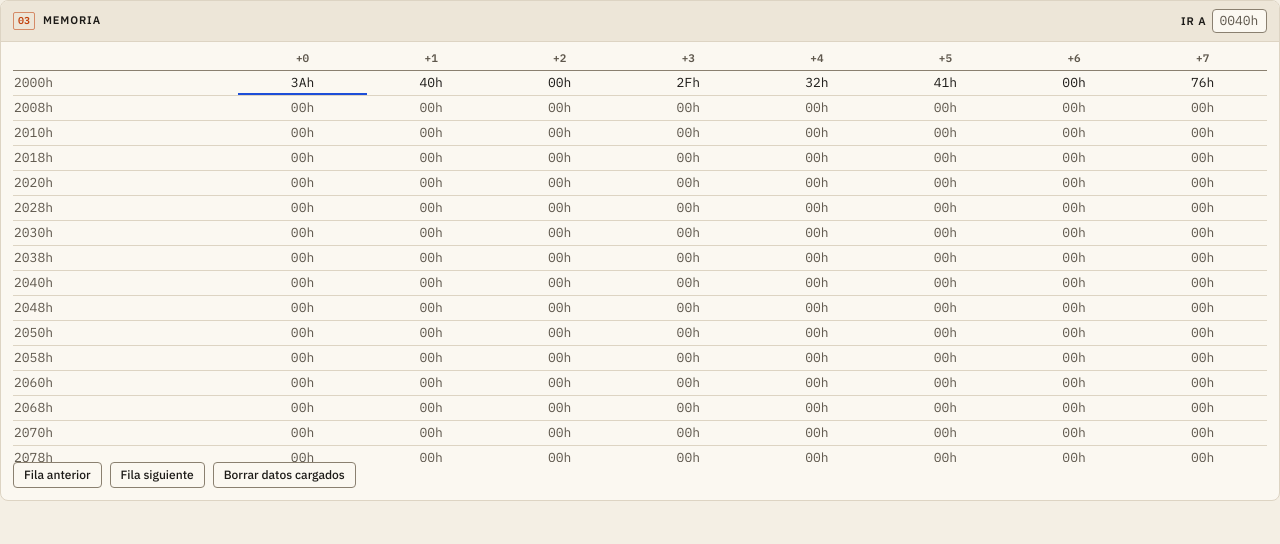
Test: Memory › valor inválido 1FF deja el valor, muestra alerta y mantiene el editor
This screenshot has width=1280, height=544.
Type "0000h" into the field labelled "Ir a" at (1240, 21), box x1=1212 y1=9 x2=1267 y2=33
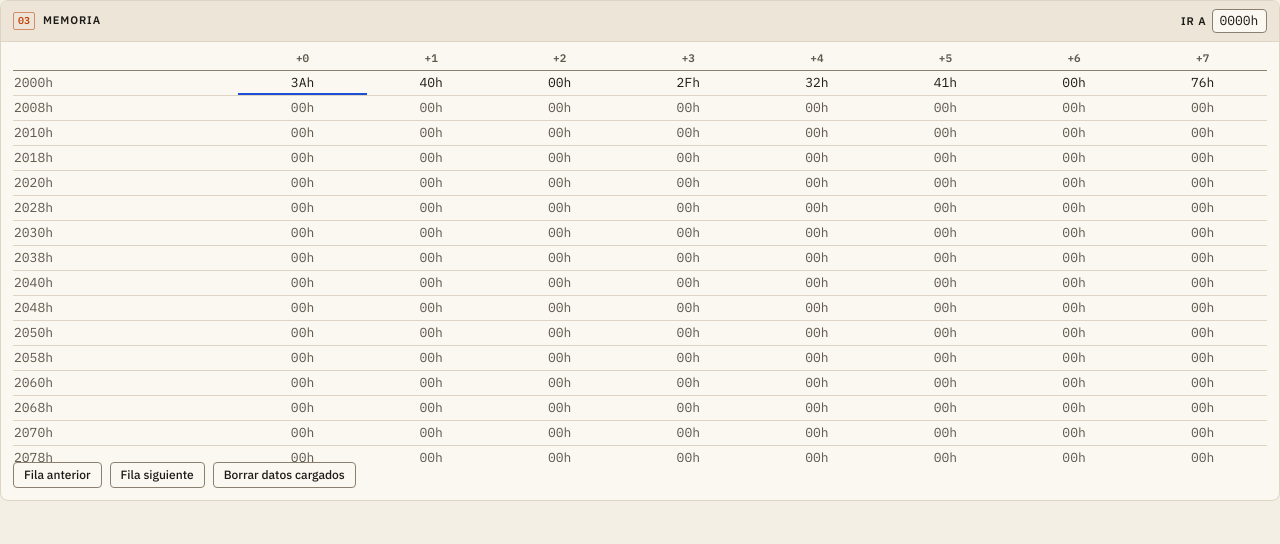
Press Enter in the field labelled "Ir a", box x1=1212 y1=9 x2=1267 y2=33
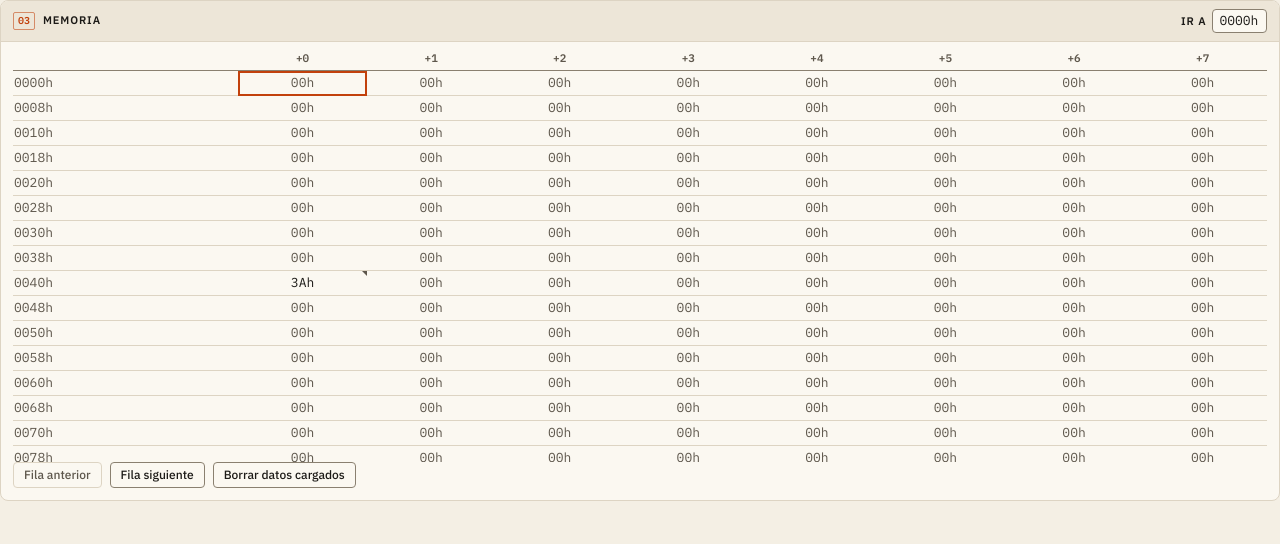
Double-click the cell named "0040h: 3Ah" at (303, 283), box x1=238 y1=270 x2=367 y2=296
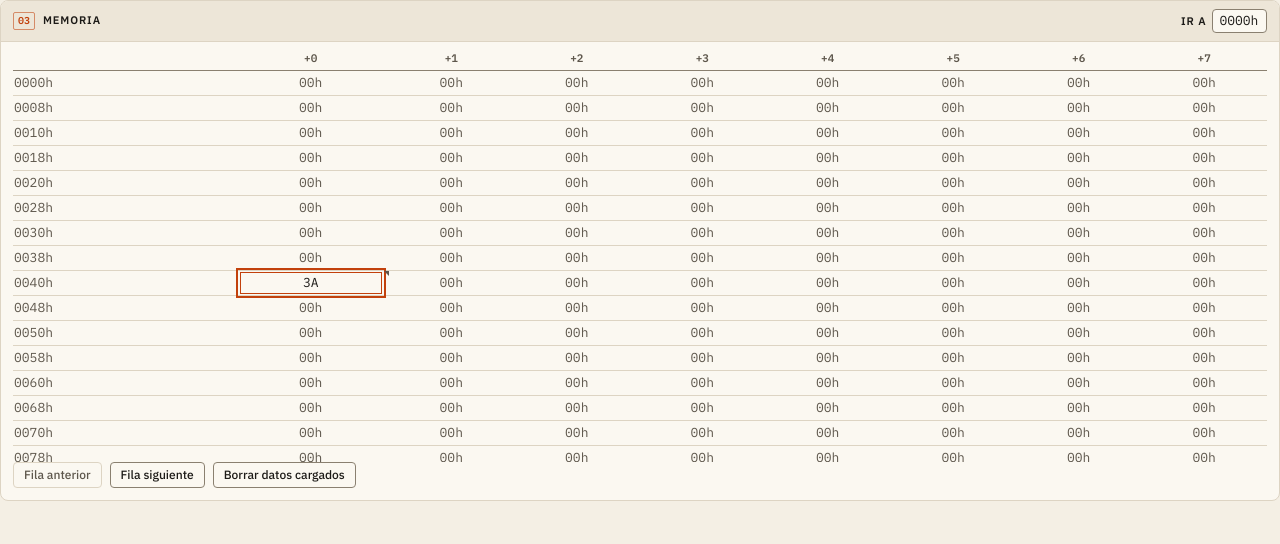
Replace the text in the field named "Valor de 0040h" with "1FF" at (311, 283), box x1=240 y1=272 x2=382 y2=294
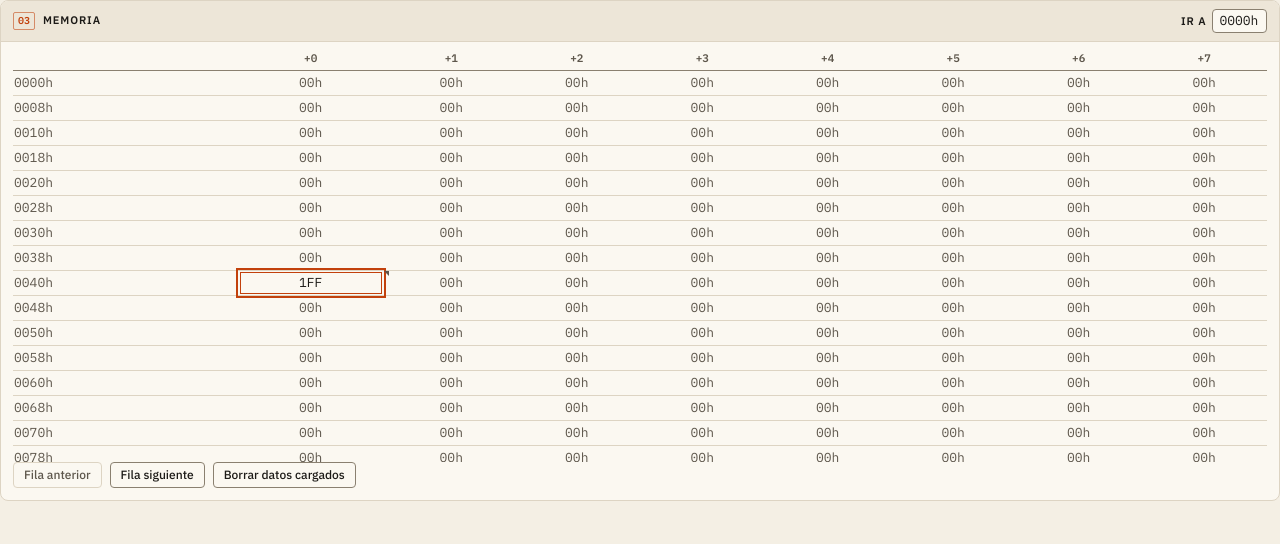
Press Enter in the field named "Valor de 0040h", box x1=240 y1=272 x2=382 y2=294
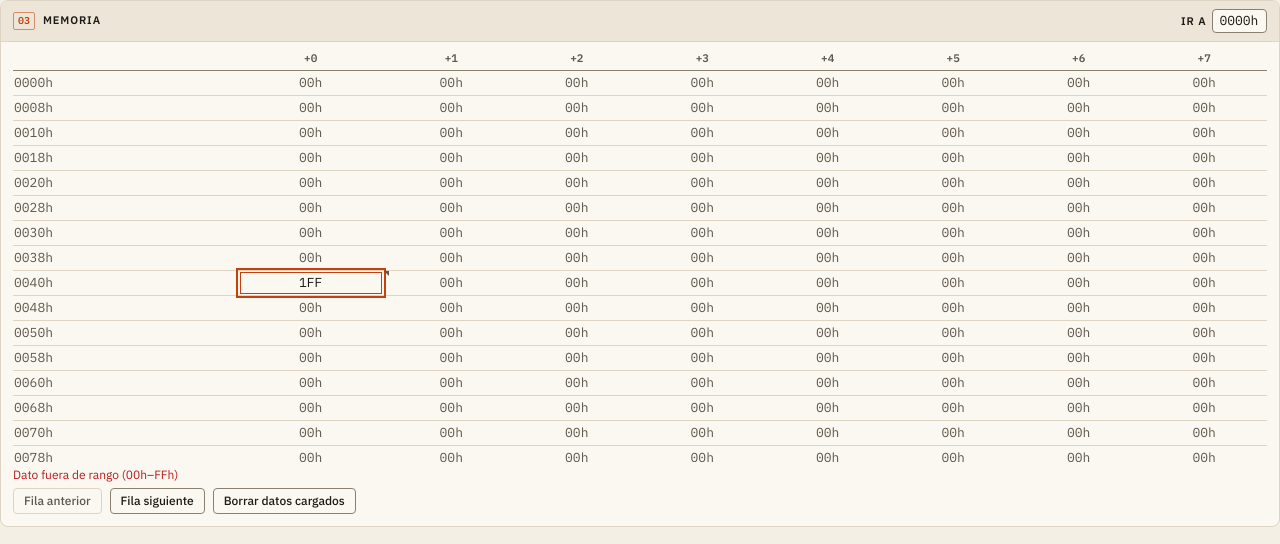
Expected: the message shows "fuera de rango", x1=13 y1=467 x2=178 y2=482
Press Escape in the field named "Valor de 0040h", box x1=240 y1=272 x2=382 y2=294
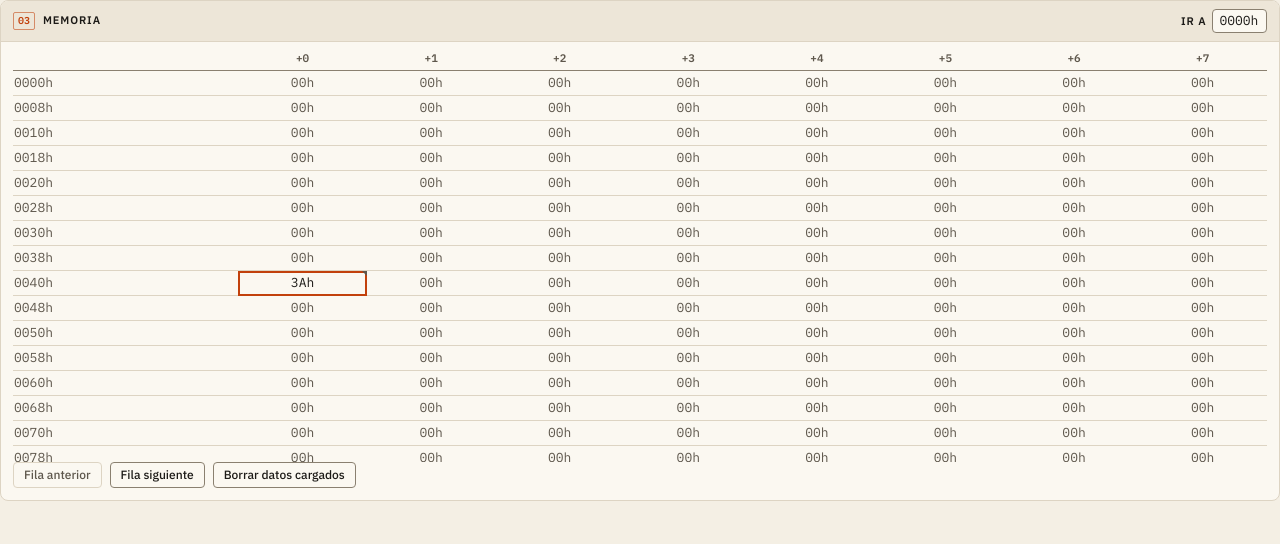
Expected: the cell named "0040h: 3Ah" is shown, x1=238 y1=270 x2=367 y2=296
Expected: the message "Dato fuera de rango (00h–FFh)" is gone
